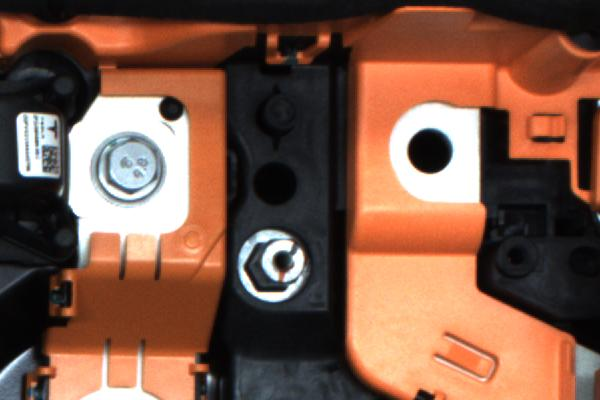nut_b: (85, 127, 173, 208)
